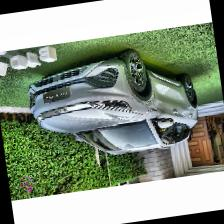EV: (25, 43, 206, 169)
